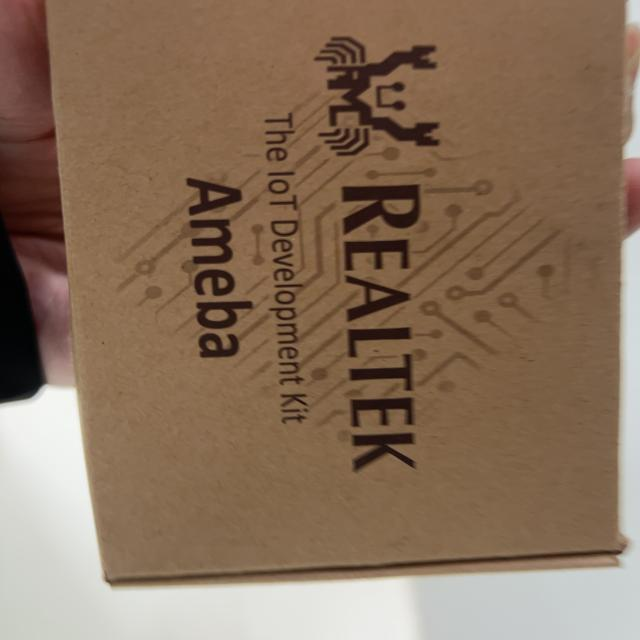box: (63, 0, 640, 599), (61, 591, 93, 607)
